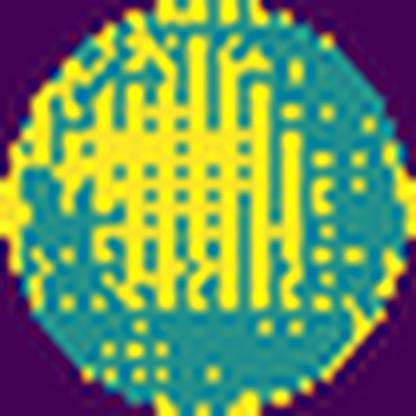Near-full: (0, 0, 341, 337)
